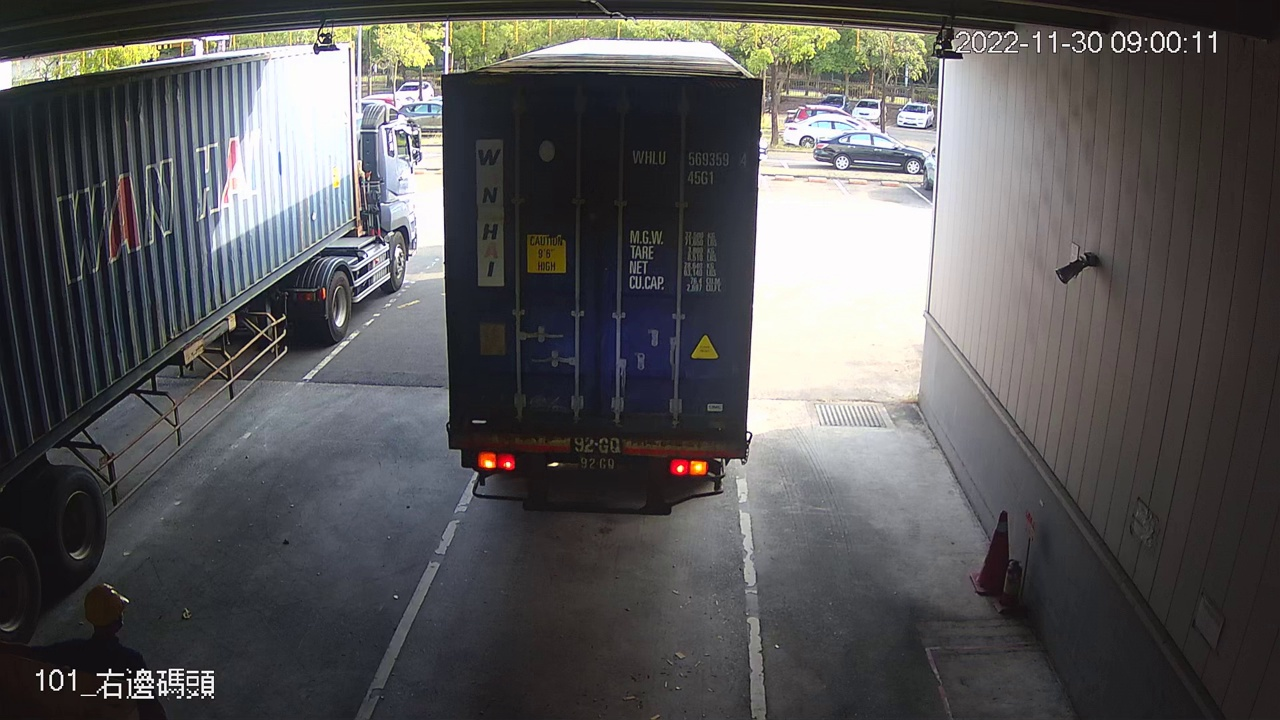container: (625, 144, 754, 192)
